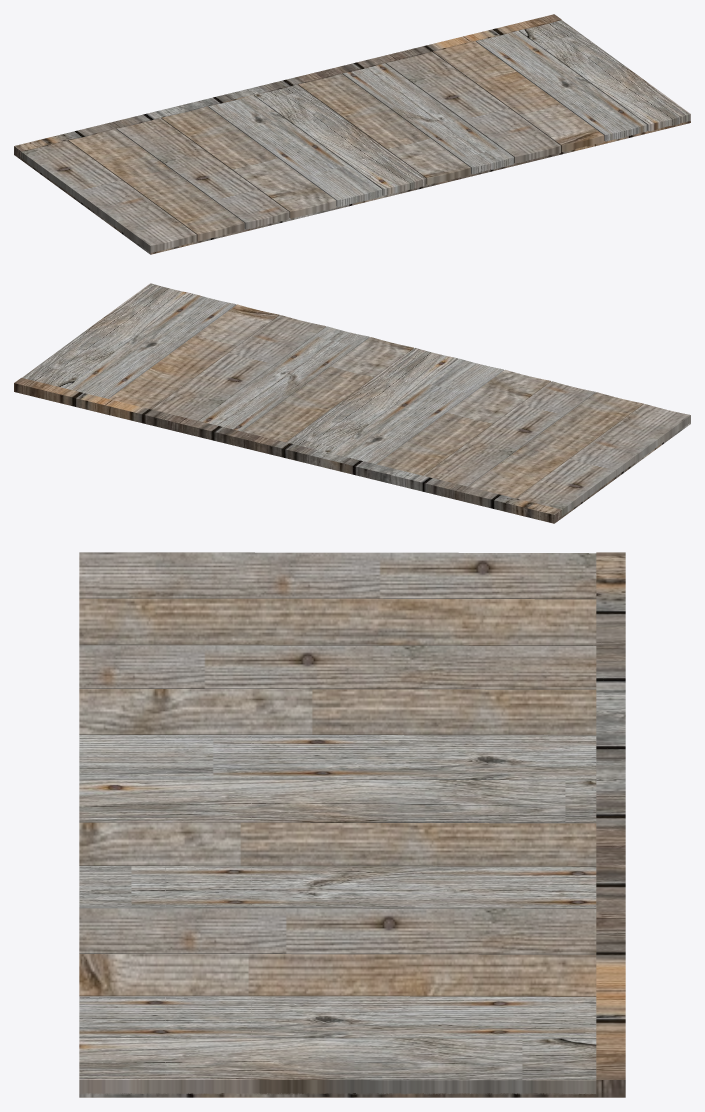
The model's file is printshop-sign-hood.glb.
3 renders of one model, top to bottom at view 1: azimuth 30°, elevation 25°; view 2: azimuth 150°, elevation 25°; view 3: azimuth 270°, elevation 25°, orthographic. The views are drawn at different scales.
Parts seen in each view (by area): view 1: printshop-sign-hood; view 2: printshop-sign-hood; view 3: printshop-sign-hood.
Boxes of the visible parts, x1,y1,x2,y2 form: printshop-sign-hood: (14,14,690,254); printshop-sign-hood: (14,283,690,523); printshop-sign-hood: (79,552,625,1097).
Size of the model in its own units: 3.2 by 0.05 by 1.4.
Materials: 2 (2 with a texture image).
